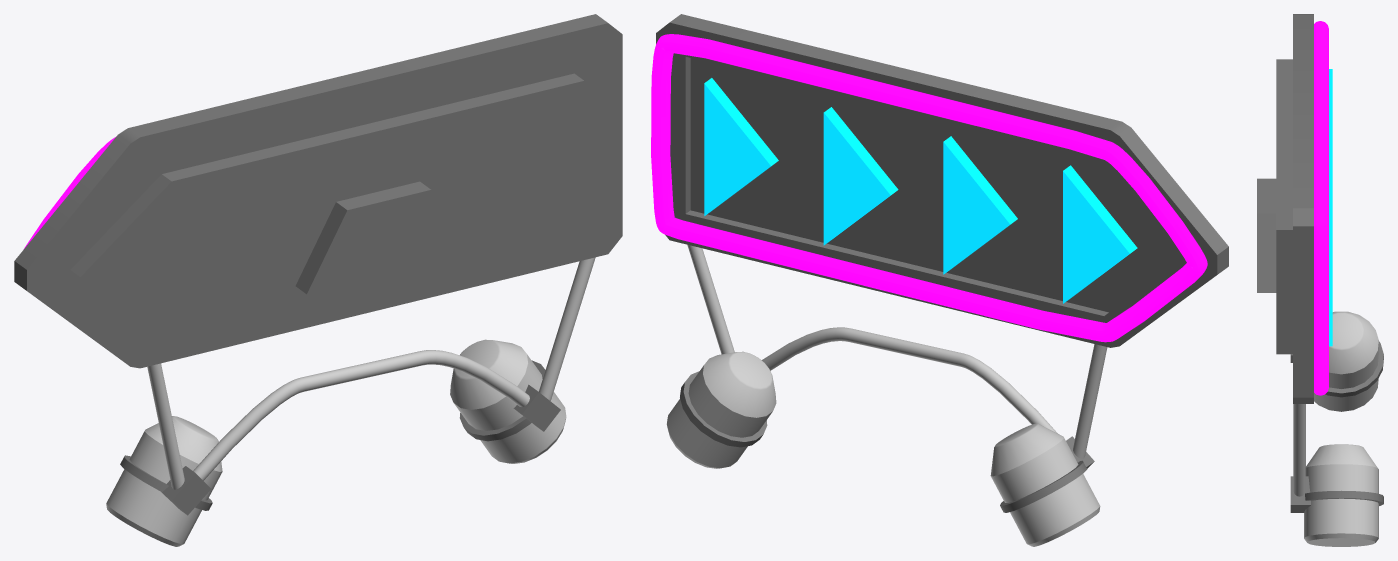
File: NeonSign.fbx
The picture shows the model from 3 angles, left to right: view 1: azimuth 30°, elevation 25°; view 2: azimuth 150°, elevation 25°; view 3: azimuth 270°, elevation 25°; orthographic projection. The views are drawn at different scales.
Visible parts, largest first — view 1: Sign; view 2: Sign; view 3: Sign.
Boxes of the visible parts, x1,y1,x2,y2 form: Sign: [14, 14, 622, 546]; Sign: [651, 14, 1228, 546]; Sign: [1257, 14, 1383, 546].
Bounding box in the file's own units: 631 × 444 × 137.
